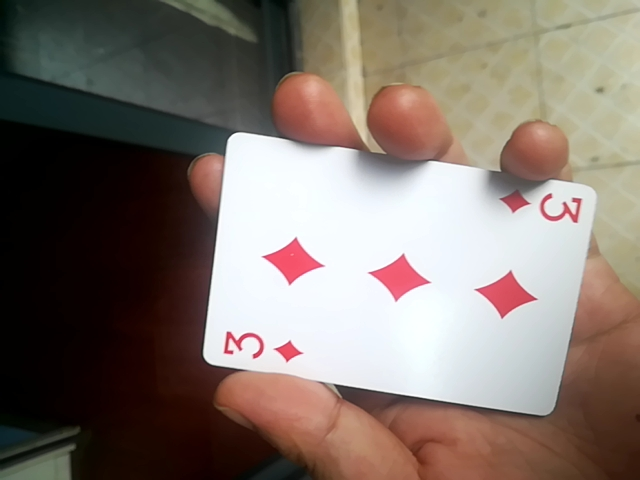fk 3: (199, 147, 614, 428)
